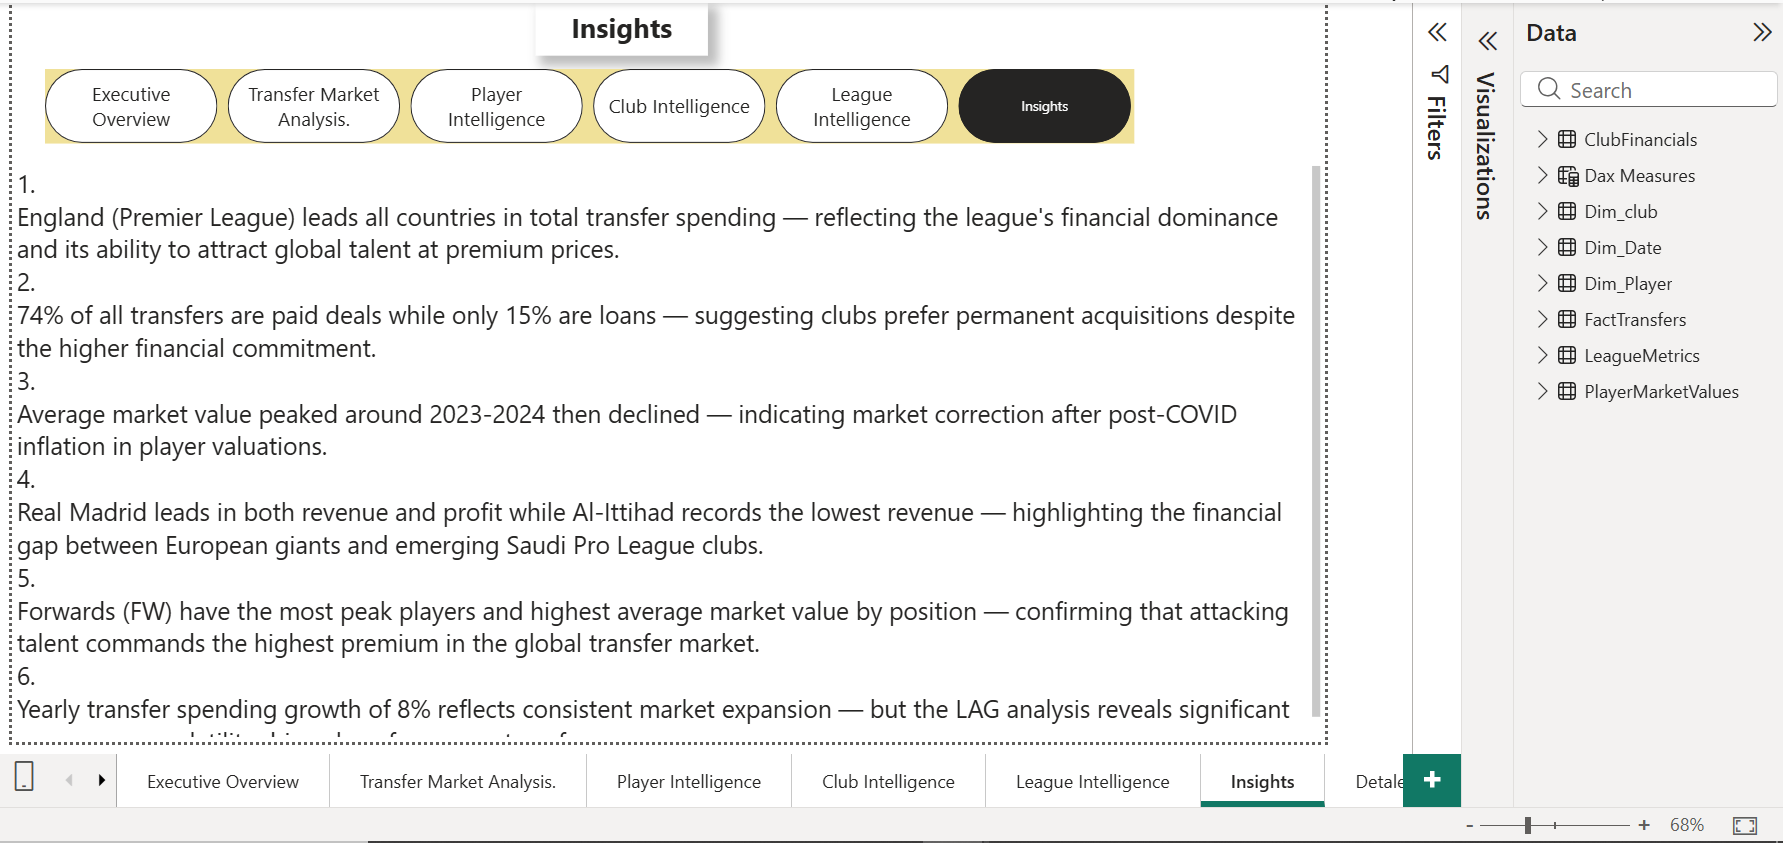

Layout of this report page (visuals, bound fields, positions):
{"tool":"powerbi","page":{"name":"Insights","canvas":[1280,720],"ordinal":5},"visuals":[{"type":"textbox","box":[510.1,0,168.1,51.1],"z":0},{"type":"textbox","box":[0,103,1279.5,616.3],"z":1}]}

Visuals, with their boxes on the page's 1280x720 design canvas (x1, y1, x2, y2). These are canvas units, not pixel positions in the 1783x843 screenshot, which may show the page scaled, cropped or inside an application window:
textbox: bbox(510, 0, 678, 51)
textbox: bbox(0, 103, 1280, 719)
